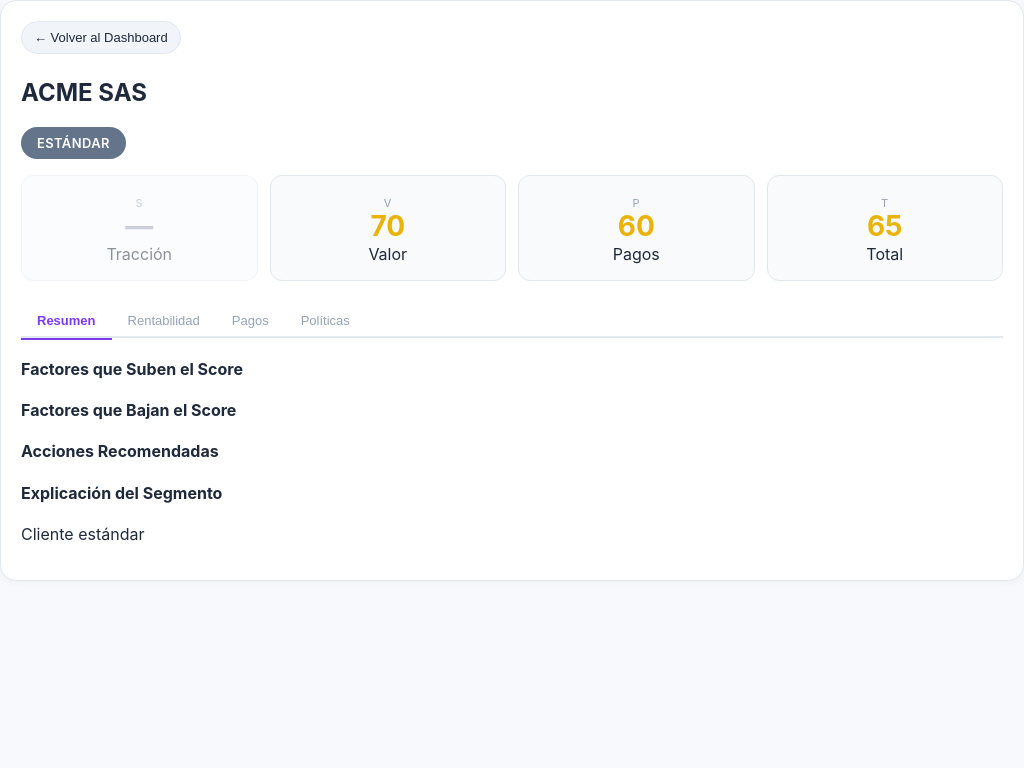
it: Detalle del cliente (FE-419) › el botón de información de una métrica tiene nombre y abre un diálogo con nombre
Click the button "Rentabilidad": (164,321) 112,302 -> 216,340
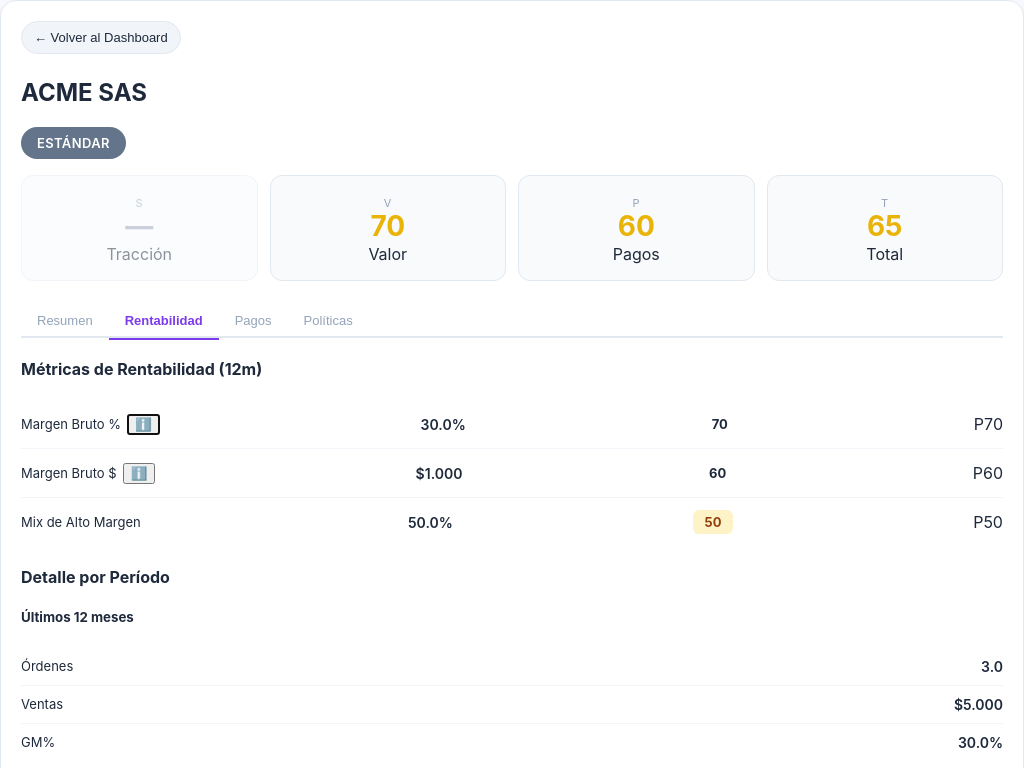
Click the button named "Qué es Margen Bruto %": (143,424) 127,414 -> 160,434
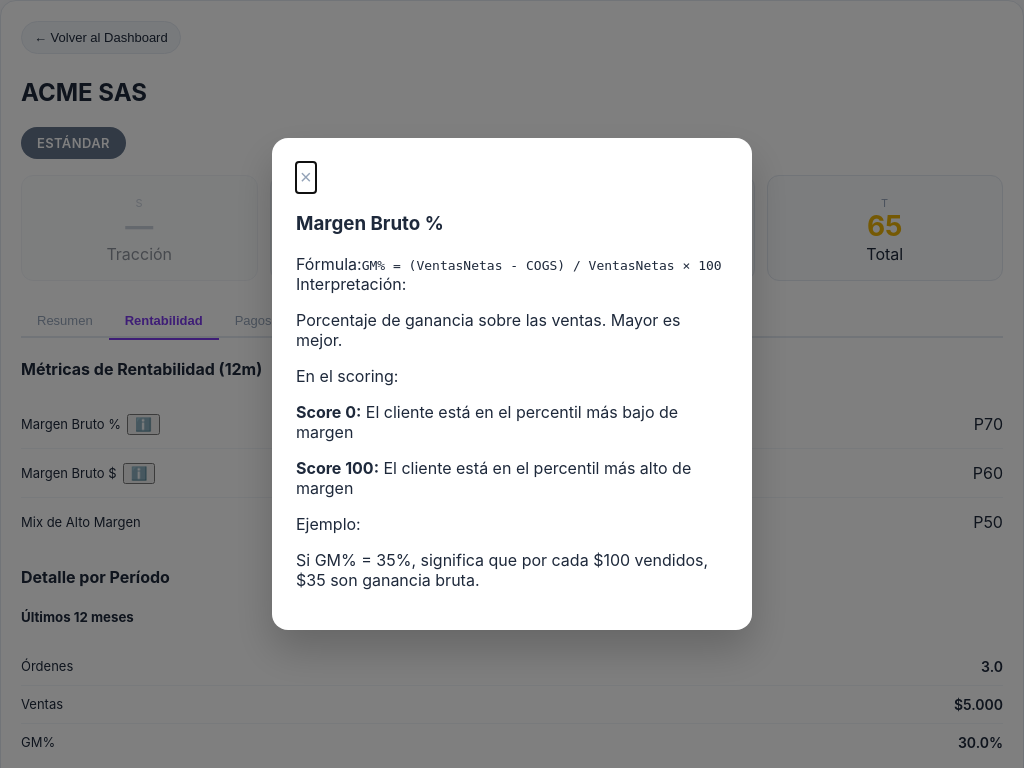
Press Escape in the button named "Cerrar", box 296,162 -> 316,193
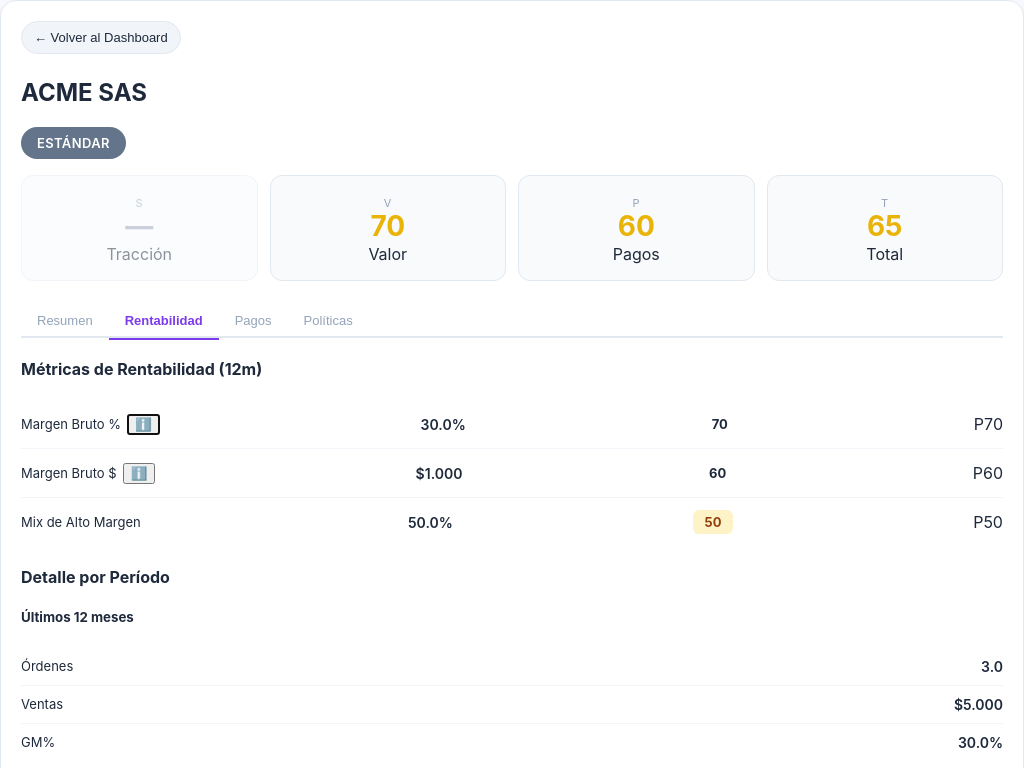
Expected: the dialog is gone
